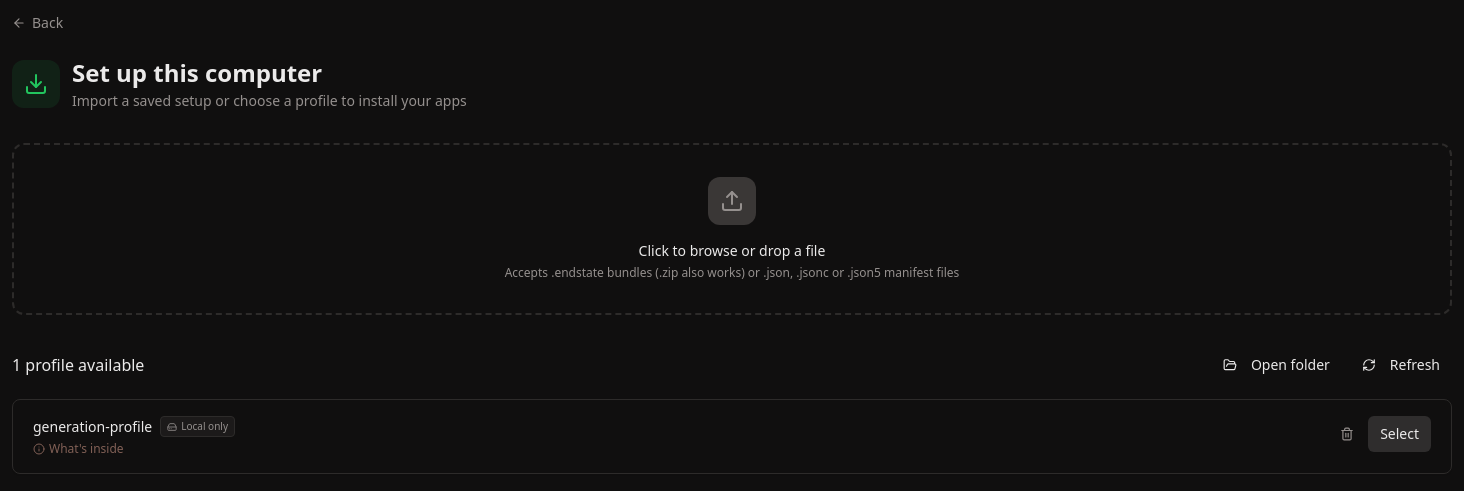
it: SetupFlow config generations › renders no configuration cards for an install-only apply that carries resolution data
Click the text "generation-profile" at (93, 426), box x1=33 y1=416 x2=152 y2=436
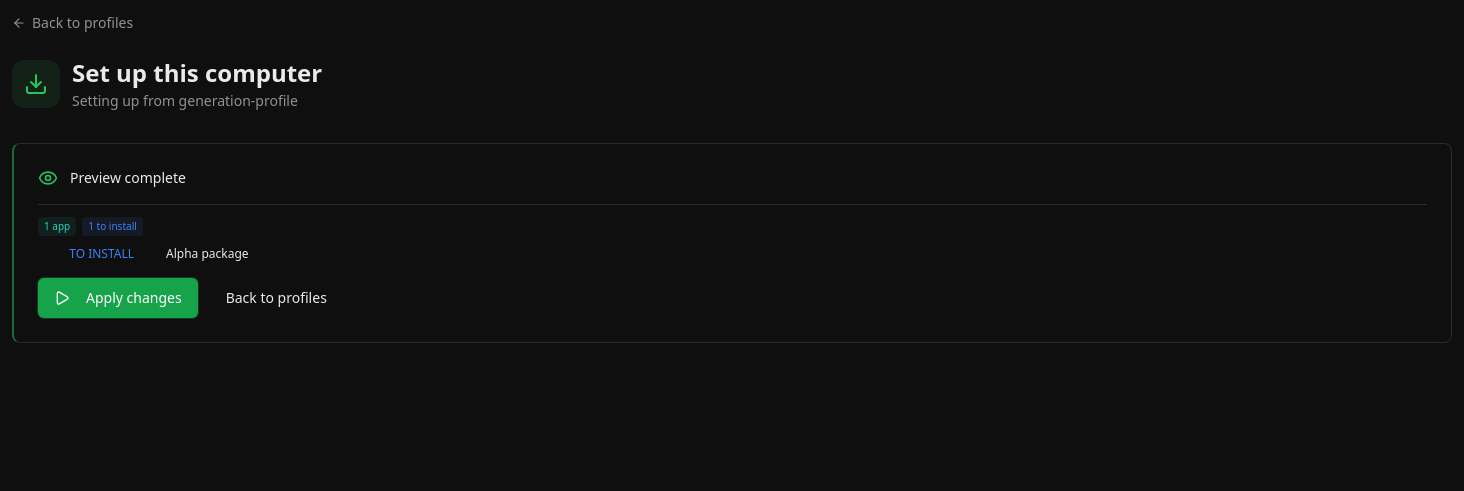
Result: the text "Preview complete" is shown at x1=70 y1=168 x2=186 y2=188
Note: Apply directly in the default apps-only intent.
Click the button with test id "setup-flow-apply" at (118, 298), box x1=38 y1=278 x2=198 y2=318
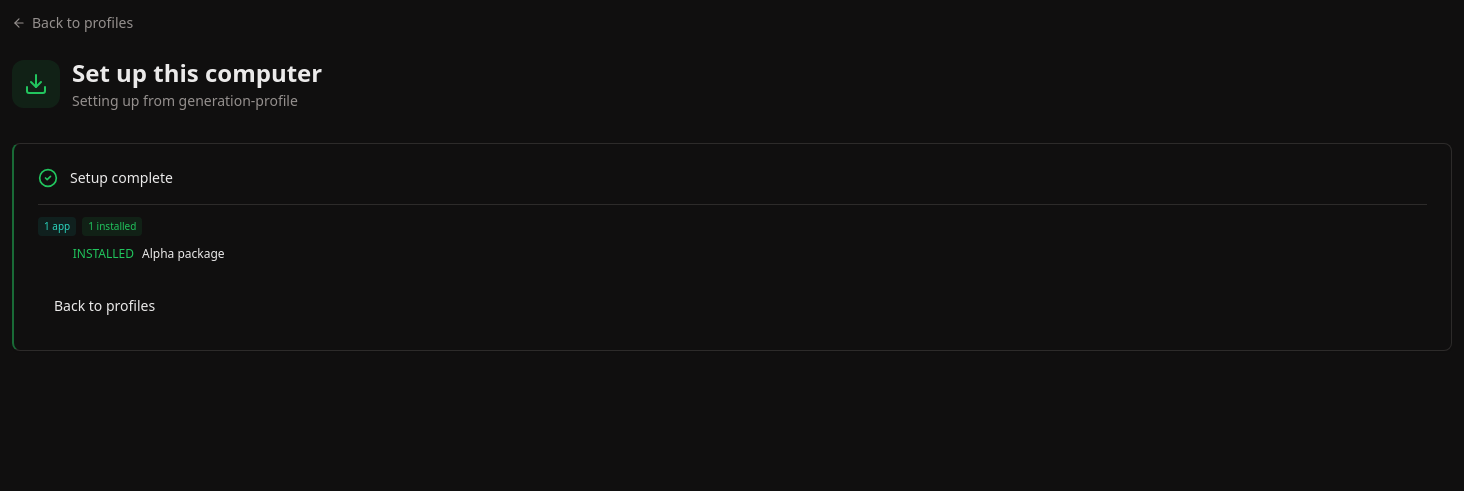
Result: the text "Setup complete" is shown at x1=70 y1=168 x2=173 y2=188
